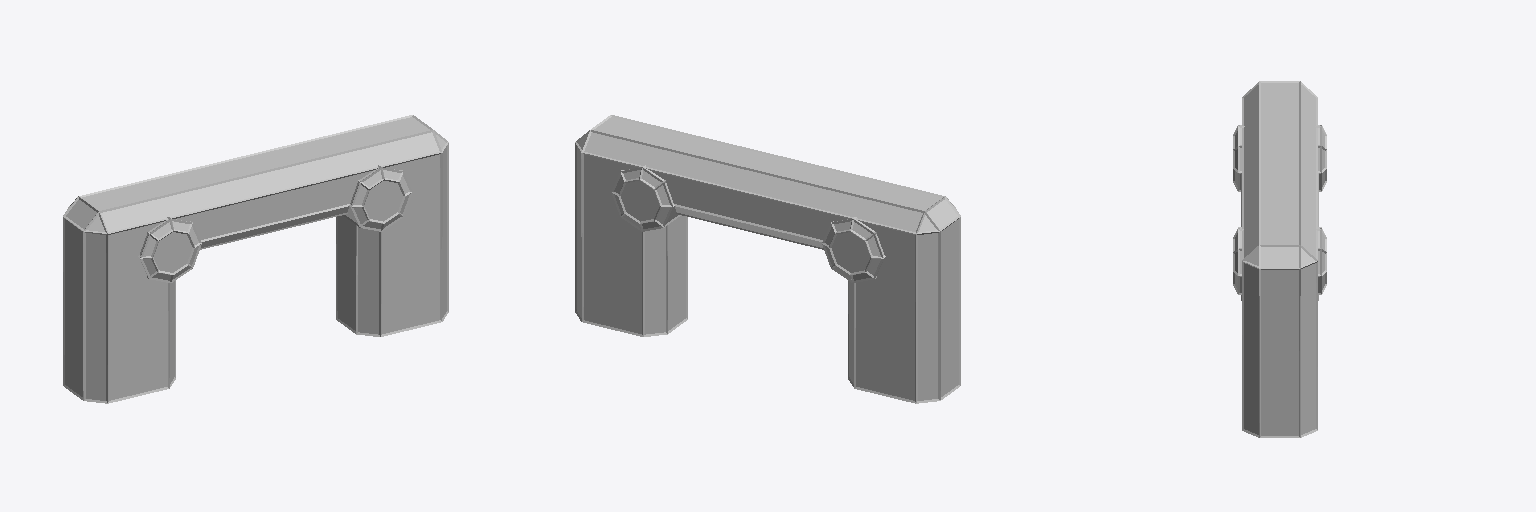
Rendered from gate_outer.obj.
3 views of the same model, side by side, from view 1: azimuth 30°, elevation 25°; view 2: azimuth 150°, elevation 25°; view 3: azimuth 270°, elevation 25° (orthographic).
Parts seen in each view (by area): view 1: Cube, Cube.005_Cube.008, Cylinder.003_Cylinder.004, Cylinder.002_Cylinder.003, Cylinder.001_Cylinder.002, Cylinder; view 2: Cube, Cube.005_Cube.008, Cylinder.003_Cylinder.004, Cylinder.002_Cylinder.003, Cylinder.001_Cylinder.002, Cylinder; view 3: Cube, Cube.005_Cube.008, Cylinder.001_Cylinder.002, Cylinder.
Part boxes in pixels (left/top/right/bottom): Cube: left=65, top=117, right=446, bottom=400; Cube.005_Cube.008: left=63, top=115, right=448, bottom=403; Cylinder.003_Cylinder.004: left=346, top=167, right=409, bottom=228; Cylinder.002_Cylinder.003: left=140, top=219, right=198, bottom=280; Cylinder.001_Cylinder.002: left=343, top=165, right=412, bottom=231; Cylinder: left=138, top=217, right=201, bottom=282; Cube: left=577, top=117, right=958, bottom=400; Cube.005_Cube.008: left=575, top=115, right=960, bottom=403; Cylinder.003_Cylinder.004: left=614, top=167, right=677, bottom=228; Cylinder.002_Cylinder.003: left=825, top=219, right=883, bottom=280; Cylinder.001_Cylinder.002: left=611, top=165, right=680, bottom=231; Cylinder: left=822, top=217, right=885, bottom=282; Cube: left=1244, top=83, right=1315, bottom=435; Cube.005_Cube.008: left=1241, top=81, right=1318, bottom=437; Cylinder.001_Cylinder.002: left=1233, top=227, right=1326, bottom=294; Cylinder: left=1233, top=125, right=1326, bottom=191.
Bounding box in the file's own units: 14.97 × 7.28 × 3.35.